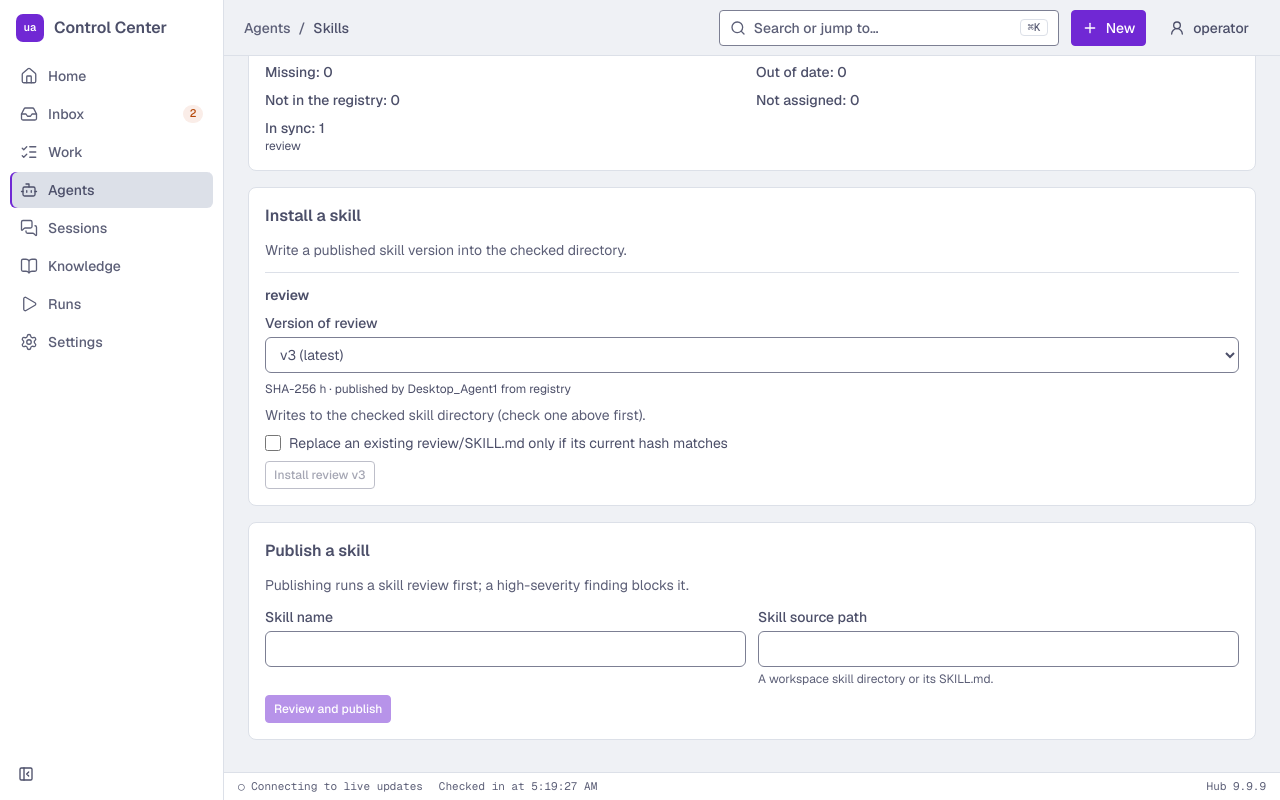
skills: drift, install and publish › a publish the review blocked is shown as refused, with the findings
The image size is (1280, 800).
(page scrolled)
Type "deploy" into the field labelled "Skill name" at (506, 649), box [265,631,746,667]
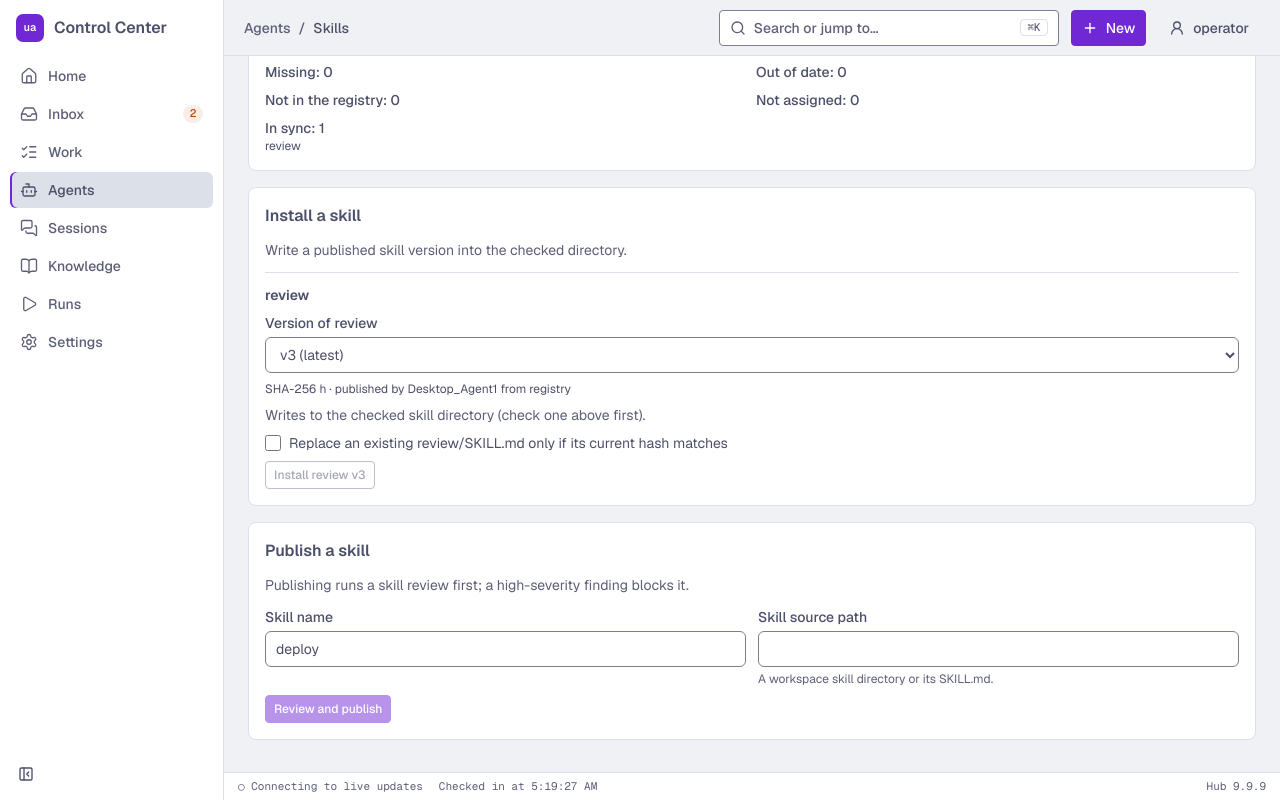
Type "skills/deploy" into the field labelled "Skill source path" at (998, 649), box [758,631,1239,667]
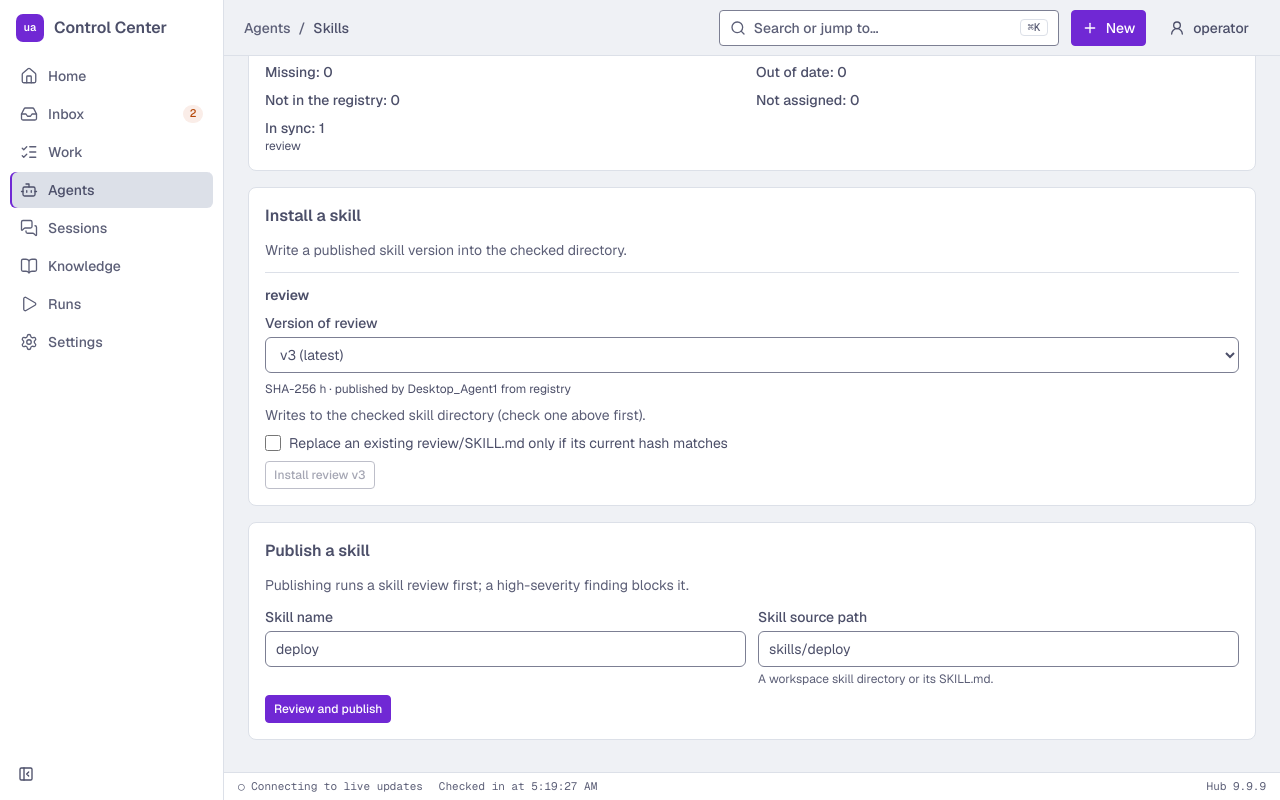
Click the button "Review and publish" at (328, 709), box [265,695,392,723]
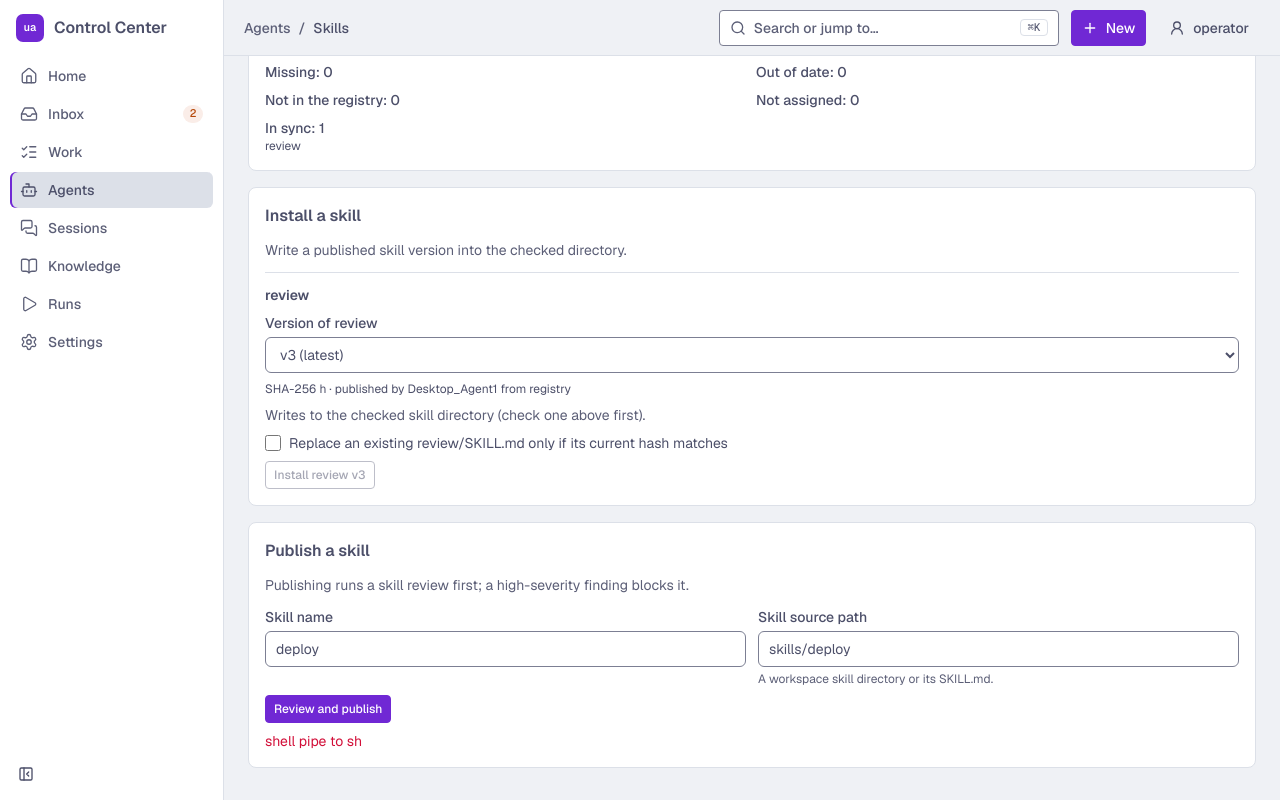
Expected: the message reads "shell pipe to sh", [265,732,362,750]
